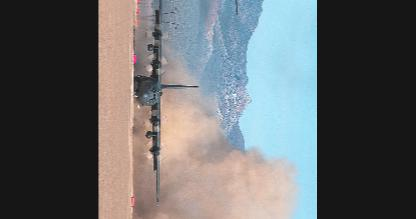Be200: (133, 0, 200, 206)
